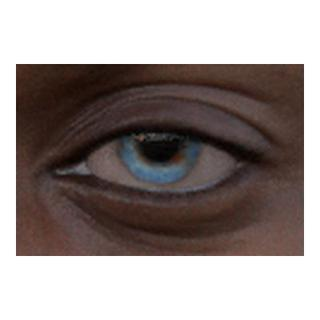pupil: (141, 123, 179, 161)
